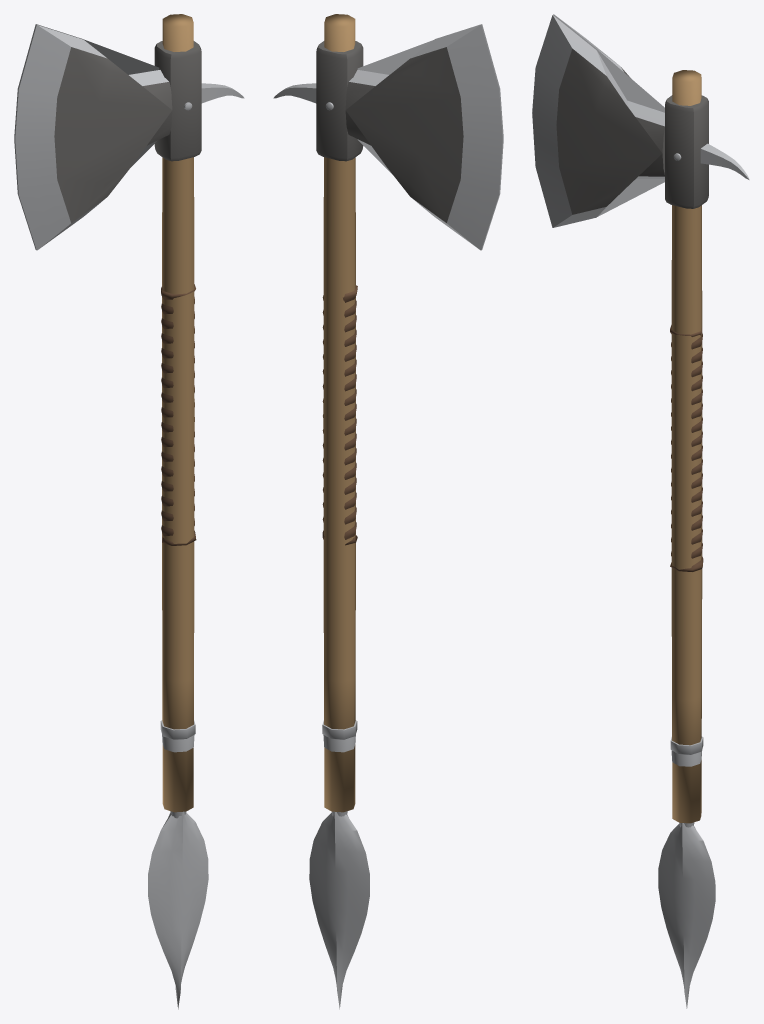
File: dwarven-urgrosh.glb
3 views of the same model, side by side, from view 1: azimuth 30°, elevation 25°; view 2: azimuth 150°, elevation 25°; view 3: azimuth 330°, elevation 25° (orthographic). The views are drawn at different scales.
Parts seen in each view (by area): view 1: dwarven-urgrosh; view 2: dwarven-urgrosh; view 3: dwarven-urgrosh.
Boxes of the visible parts, x1,y1,x2,y2 form: dwarven-urgrosh: [14, 14, 244, 1009]; dwarven-urgrosh: [273, 14, 503, 1009]; dwarven-urgrosh: [532, 14, 749, 1008].
Bounding box in the file's own units: 0.7667 × 3.25 × 0.1318.
